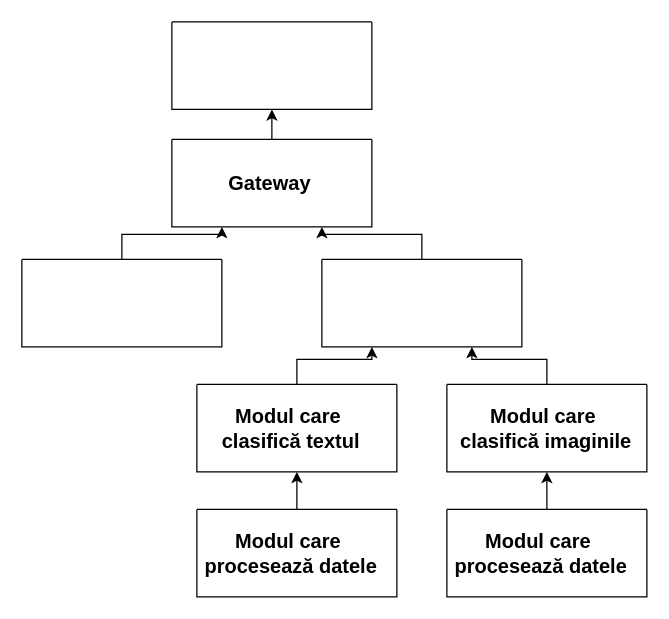
Image size: 669x619. Some labels were removed from this diagram. Each missing label, with the box of its shape:
Database: (21, 258, 222, 347)
Frontend: (171, 21, 372, 109)
Modul procesare output: (321, 258, 522, 347)
